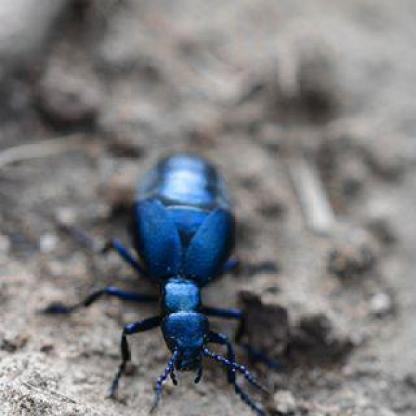beetle: (126, 152, 246, 396)
